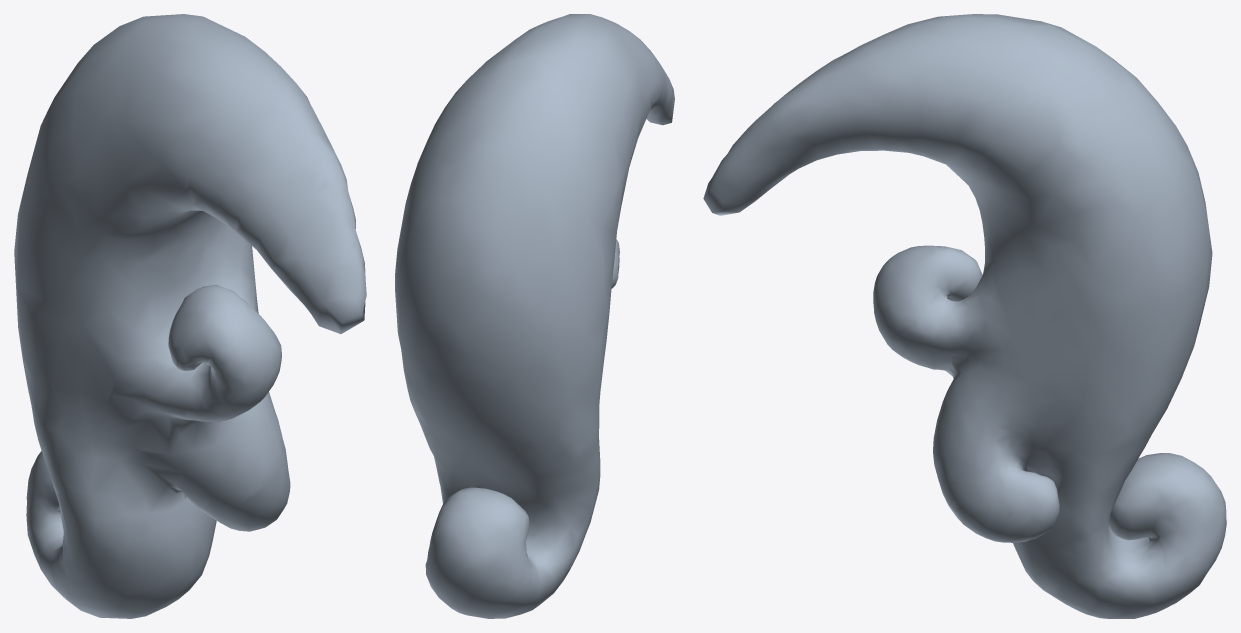
File: Tail_08.fbx
The picture shows the model from 3 angles, left to right: view 1: azimuth 30°, elevation 25°; view 2: azimuth 150°, elevation 25°; view 3: azimuth 270°, elevation 25°; orthographic projection. The views are drawn at different scales.
Parts seen in each view (by area): view 1: Tail_08; view 2: Tail_08; view 3: Tail_08.
Part boxes in pixels (box(x1,y1,x2,y2)): Tail_08: box(14, 14, 366, 618); Tail_08: box(395, 14, 674, 618); Tail_08: box(703, 14, 1226, 618).
Size of the model in its own units: 1.02 by 2.86 by 2.28.
